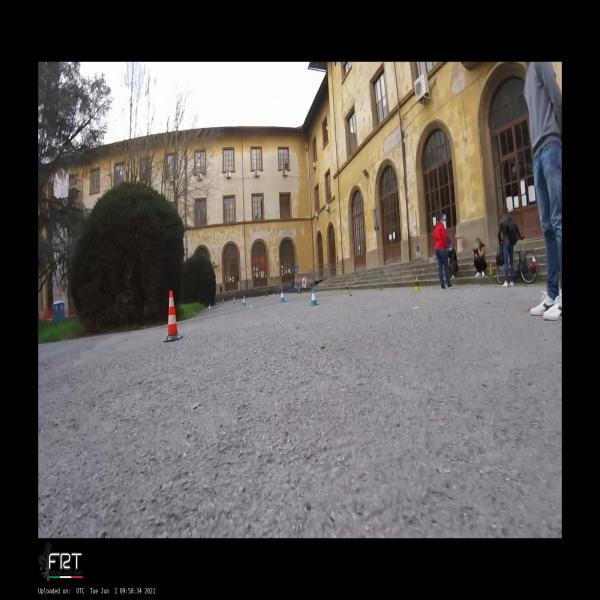blue_cone: (309, 287, 319, 306), (280, 289, 286, 303), (242, 297, 246, 306), (208, 304, 211, 310), (233, 298, 235, 304)
large_orange_cone: (163, 290, 183, 342)
unknown_cone: (531, 254, 536, 272), (488, 262, 494, 277)
yellow_cone: (414, 277, 420, 291), (345, 283, 349, 293), (298, 288, 301, 296), (265, 292, 268, 300)
